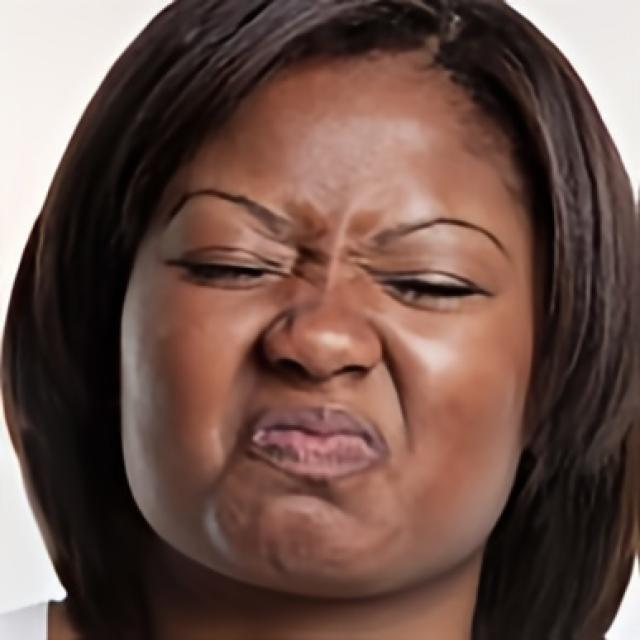disgust: (118, 33, 548, 600)
